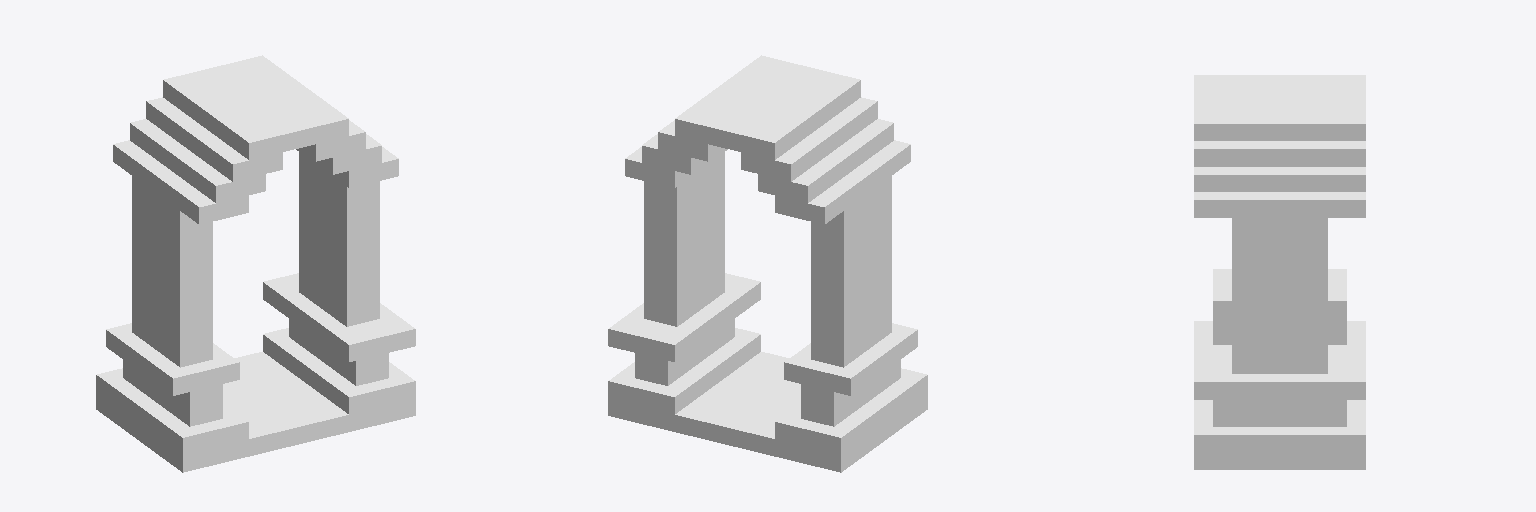
File: portal_hex_finish_02.obj
3 views of the same model, side by side, from view 1: azimuth 30°, elevation 25°; view 2: azimuth 150°, elevation 25°; view 3: azimuth 270°, elevation 25° (orthographic).
Parts seen in each view (by area): view 1: object 1; view 2: object 1; view 3: object 1.
Part boxes in pixels (bbox=[...]): object 1: bbox=[96, 55, 415, 472]; object 1: bbox=[608, 55, 927, 472]; object 1: bbox=[1194, 75, 1365, 469].
Size of the model in its own units: 1.4 by 1.8 by 0.9.